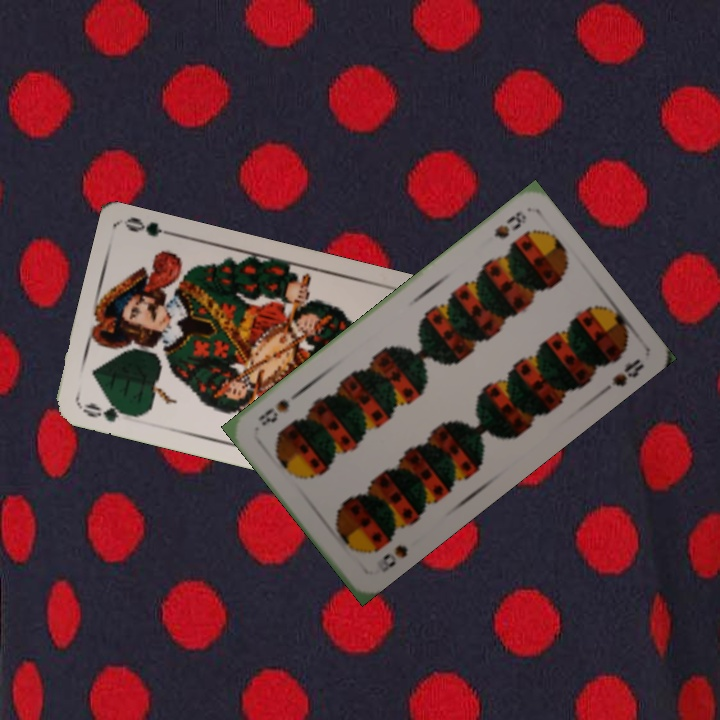GO: (78, 398, 137, 425)
S8: (489, 207, 529, 241), (378, 541, 411, 570)
